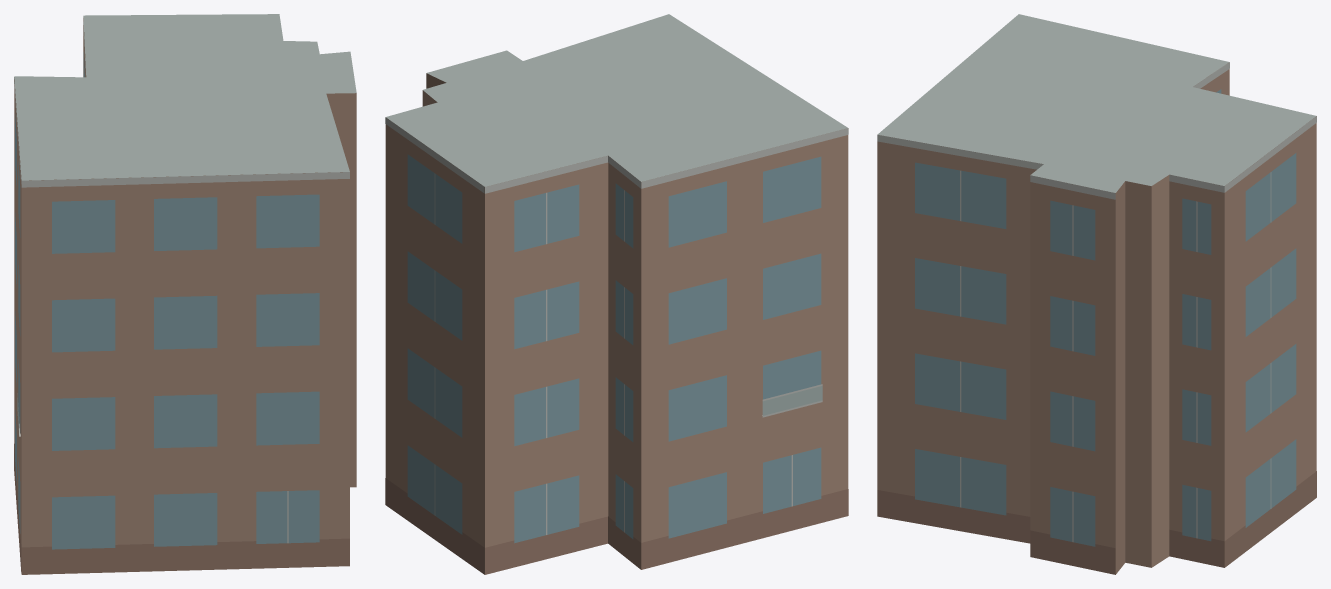
File: survey-upis-32727889.glb
3 views of the same model, side by side, from view 1: azimuth 30°, elevation 25°; view 2: azimuth 150°, elevation 25°; view 3: azimuth 270°, elevation 25° (orthographic). The views are drawn at different scales.
Visible parts, largest first — view 1: survey-upis-32727889.tmp; view 2: survey-upis-32727889.tmp; view 3: survey-upis-32727889.tmp.
Part boxes in pixels (x1=…): survey-upis-32727889.tmp: x1=14, y1=14, x2=356, y2=574; survey-upis-32727889.tmp: x1=385, y1=14, x2=848, y2=574; survey-upis-32727889.tmp: x1=877, y1=14, x2=1316, y2=574.
Size of the model in its own units: 13.89 by 13.8 by 14.41.
